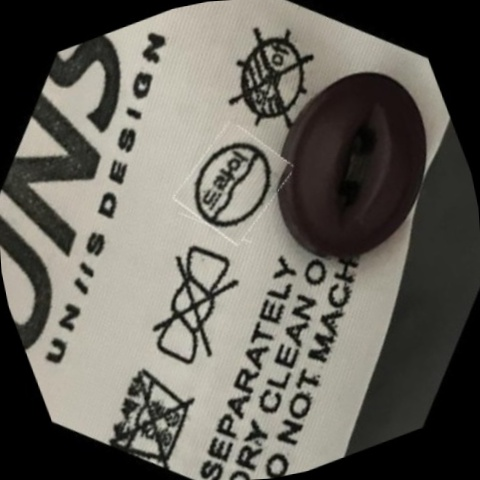DN_dry: (209, 15, 334, 142)
DN_wring: (125, 237, 266, 378)
dry_clean: (177, 126, 291, 243)
hand_wash: (91, 348, 212, 476)
